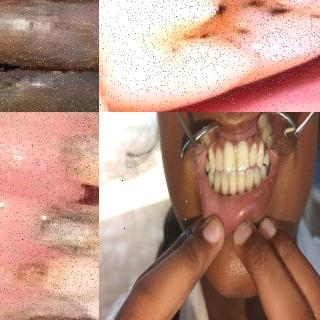cavities: (187, 0, 315, 88), (24, 202, 99, 252), (57, 125, 99, 183), (28, 301, 80, 320)
plaque: (214, 148, 224, 164), (252, 140, 258, 157)
stains: (231, 151, 240, 169), (233, 173, 239, 190), (242, 174, 248, 186), (226, 174, 230, 190)
